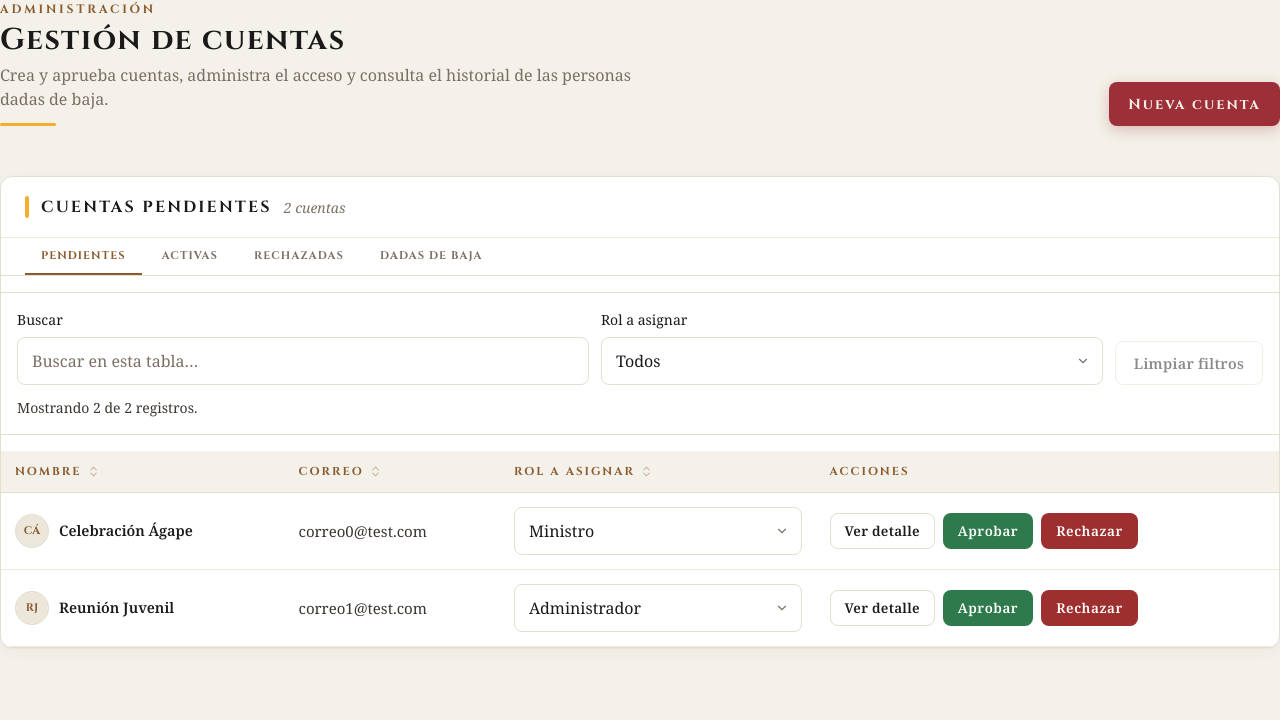
it: filtros reales en las tablas principales › abre y cierra el historial desde cuentas sin modificar los datos
Step 1. Click the button "Ver detalle" in the row of "CÁ" → (882,531), box [830, 513, 935, 549]
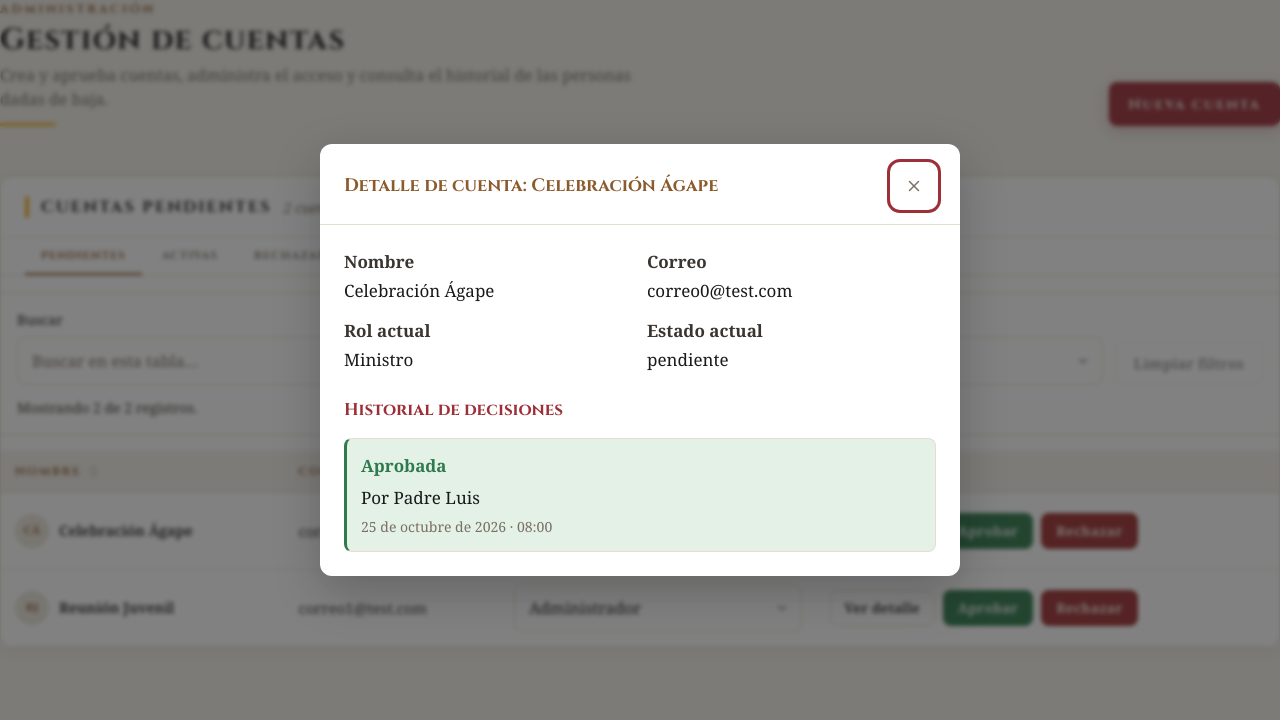
Check: the text "Por Padre Luis" is shown, box [361, 486, 480, 509]
Step 2. Click the button named "Cerrar" → (914,186), box [892, 164, 936, 208]
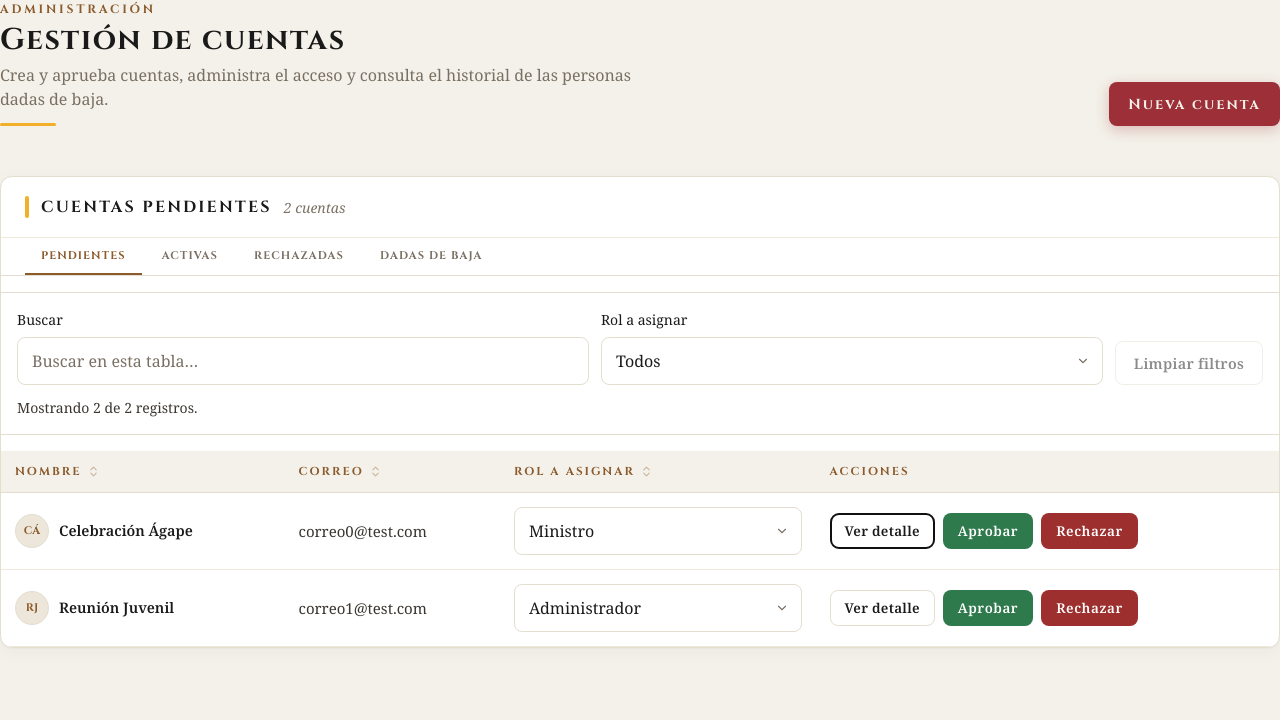
Check: the dialog is gone
